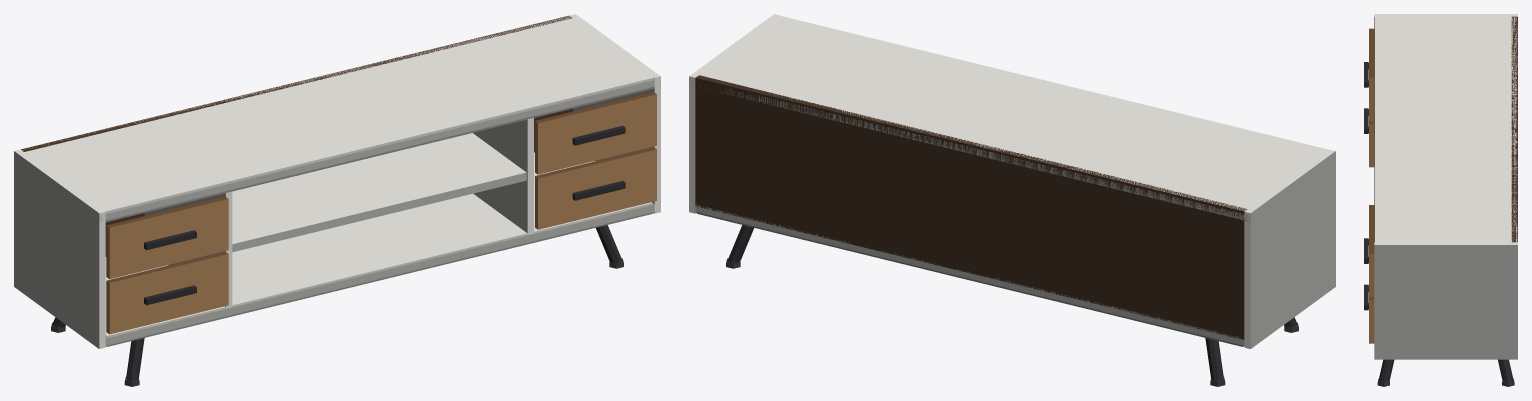
Rendered from FN_Cabinet_TV.glb.
3 views of the same model, side by side, from view 1: azimuth 30°, elevation 25°; view 2: azimuth 150°, elevation 25°; view 3: azimuth 270°, elevation 25° (orthographic). The views are drawn at different scales.
Visible parts, largest first — view 1: FN_Cabinet_TV; view 2: FN_Cabinet_TV; view 3: FN_Cabinet_TV.
Part boxes in pixels (x1,y1,x2,y2): FN_Cabinet_TV: (14, 14, 660, 386); FN_Cabinet_TV: (689, 14, 1335, 386); FN_Cabinet_TV: (1364, 14, 1517, 386).
Bounding box in the file's own units: 1.6 × 0.5 × 0.45.
Materials: 1 (1 with a texture image).
